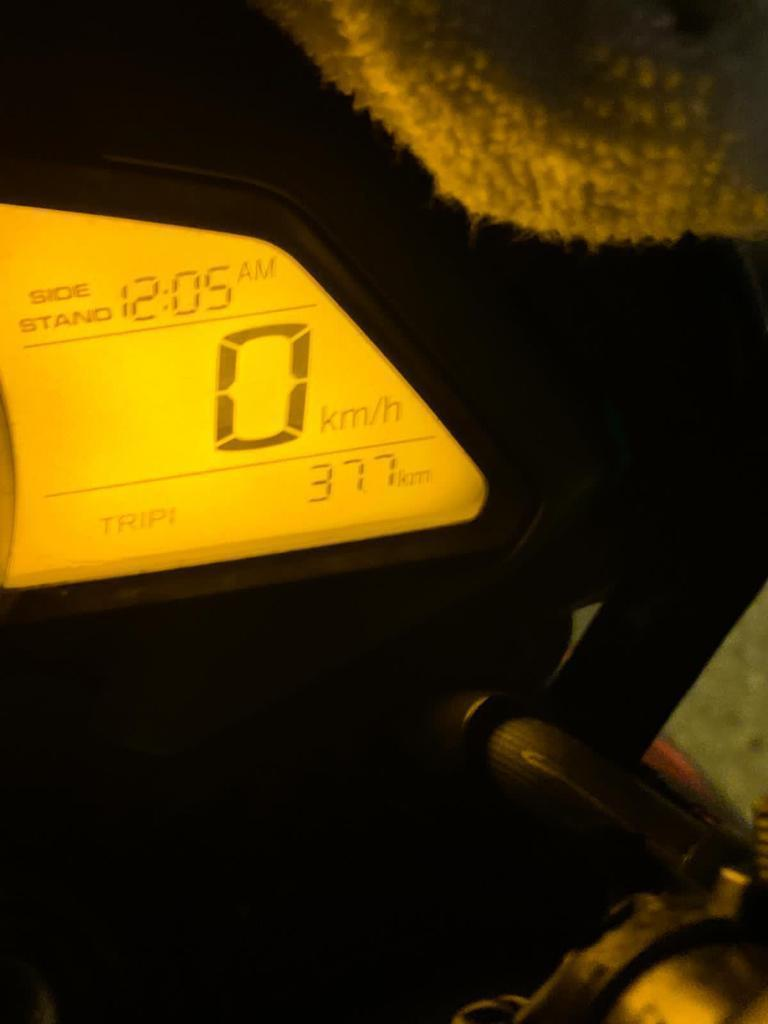0: (209, 320, 312, 453), (171, 269, 200, 316)
1: (119, 279, 130, 323), (169, 505, 178, 528)
2: (132, 275, 157, 324)
3: (309, 461, 335, 504)
5: (204, 262, 234, 312)
7: (340, 454, 370, 501), (373, 449, 397, 492)
X: (339, 404, 367, 431), (383, 392, 400, 425), (148, 505, 167, 533), (319, 403, 336, 434), (254, 257, 273, 280), (367, 397, 381, 427), (117, 513, 136, 533), (237, 260, 253, 283), (72, 309, 92, 326), (411, 468, 431, 485), (93, 307, 113, 322), (54, 286, 72, 302), (28, 288, 45, 304), (52, 313, 70, 328), (99, 514, 112, 534), (19, 318, 36, 333), (74, 282, 91, 297), (397, 468, 410, 487), (36, 315, 50, 330), (138, 509, 146, 530), (162, 285, 168, 313), (46, 286, 53, 304)
odometer: (2, 198, 495, 600)
